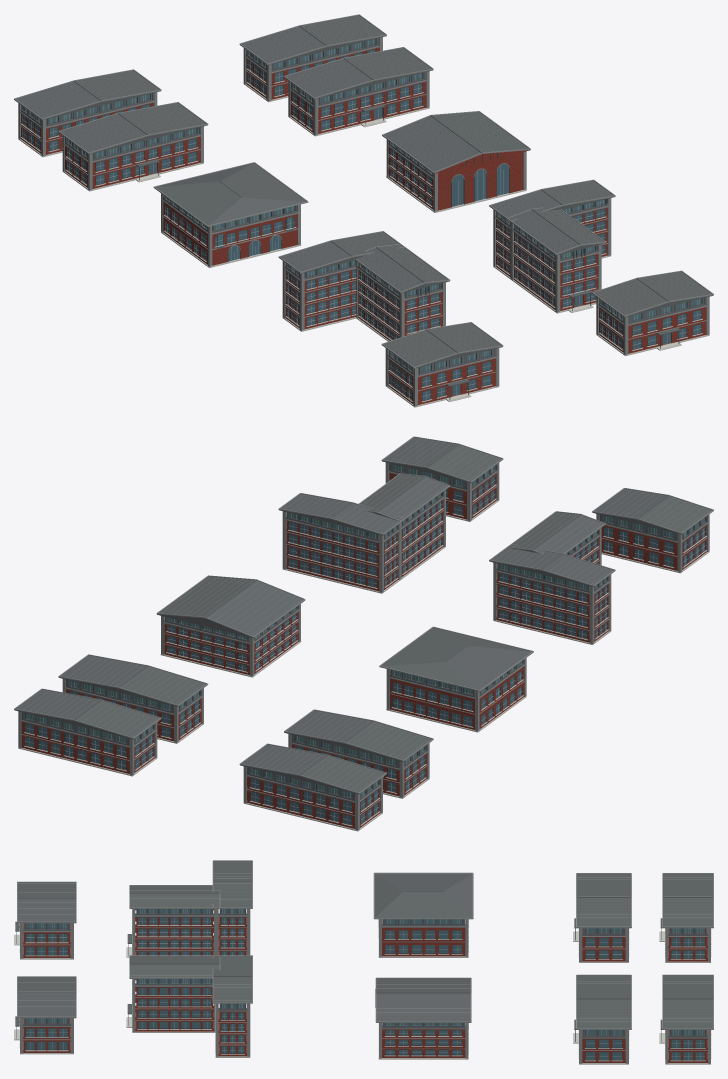
The model's file is architecture_v3_full.glb.
3 views of the same model, one above another, from view 1: azimuth 30°, elevation 25°; view 2: azimuth 150°, elevation 25°; view 3: azimuth 270°, elevation 25° (orthographic). The views are drawn at different scales.
Parts seen in each view (by area): view 1: BUILDING_library_west__ROOF_EAVES, BUILDING_library_east__ROOF_EAVES, BUILDING_teaching_east__ROOF_EAVES, BUILDING_teaching_west__ROOF_EAVES, BUILDING_dorm_near_west__ROOF_EAVES, BUILDING_dorm_near_east__ROOF_EAVES, BUILDING_teaching_west__FACADE_FINS_CORNICE, BUILDING_library_east__FLOOR_RED_BRICK, BUILDING_teaching_west__FLOOR_RED_BRICK, BUILDING_dorm_far_east__ROOF_EAVES, BUILDING_dorm_far_west__ROOF_EAVES, BUILDING_teaching_east__FACADE_FINS_CORNICE (+45 smaller); view 2: BUILDING_library_east__ROOF_EAVES, BUILDING_library_west__ROOF_EAVES, BUILDING_teaching_east__ROOF_EAVES, BUILDING_teaching_west__ROOF_EAVES, BUILDING_teaching_east__FLOOR_RED_BRICK, BUILDING_dorm_near_east__ROOF_EAVES, BUILDING_dorm_near_west__ROOF_EAVES, BUILDING_dorm_far_west__ROOF_EAVES, BUILDING_dorm_far_east__ROOF_EAVES, BUILDING_teaching_east__FACADE_FINS_CORNICE, BUILDING_teaching_east__WINDOW_GLASS, BUILDING_teaching_west__FACADE_FINS_CORNICE (+46 smaller); view 3: BUILDING_library_west__ROOF_EAVES, BUILDING_library_east__ROOF_EAVES, BUILDING_teaching_west__ROOF_EAVES, BUILDING_teaching_east__ROOF_EAVES, BUILDING_dorm_near_east__ROOF_EAVES, BUILDING_dorm_near_west__ROOF_EAVES, BUILDING_dorm_far_east__ROOF_EAVES, BUILDING_dorm_far_west__ROOF_EAVES, BUILDING_teaching_west__FACADE_FINS_CORNICE, BUILDING_teaching_east__FACADE_FINS_CORNICE, BUILDING_teaching_east__FLOOR_RED_BRICK, BUILDING_art_building__ROOF_EAVES (+47 smaller).
Part boxes in pixels (x1,y1,x2,y2): BUILDING_library_west__ROOF_EAVES: (155, 163, 306, 225); BUILDING_library_east__ROOF_EAVES: (384, 112, 528, 173); BUILDING_teaching_east__ROOF_EAVES: (491, 180, 614, 297); BUILDING_teaching_west__ROOF_EAVES: (280, 232, 449, 333); BUILDING_dorm_near_west__ROOF_EAVES: (60, 103, 207, 166); BUILDING_dorm_near_east__ROOF_EAVES: (286, 48, 432, 111); BUILDING_teaching_west__FACADE_FINS_CORNICE: (278, 231, 450, 337); BUILDING_library_east__FLOOR_RED_BRICK: (388, 147, 530, 210); BUILDING_teaching_west__FLOOR_RED_BRICK: (285, 269, 442, 340); BUILDING_dorm_far_east__ROOF_EAVES: (241, 15, 386, 65); BUILDING_dorm_far_west__ROOF_EAVES: (16, 70, 160, 120); BUILDING_teaching_east__FACADE_FINS_CORNICE: (489, 179, 615, 312); BUILDING_library_east__ROOF_EAVES: (157, 576, 303, 638); BUILDING_library_west__ROOF_EAVES: (381, 627, 531, 689); BUILDING_teaching_east__ROOF_EAVES: (279, 474, 448, 535); BUILDING_teaching_west__ROOF_EAVES: (490, 512, 613, 586); BUILDING_teaching_east__FLOOR_RED_BRICK: (286, 499, 443, 591); BUILDING_dorm_near_east__ROOF_EAVES: (59, 655, 206, 706); BUILDING_dorm_near_west__ROOF_EAVES: (284, 710, 431, 761); BUILDING_dorm_far_west__ROOF_EAVES: (240, 744, 385, 794); BUILDING_dorm_far_east__ROOF_EAVES: (15, 689, 159, 739); BUILDING_teaching_east__FACADE_FINS_CORNICE: (278, 473, 450, 592); BUILDING_teaching_east__WINDOW_GLASS: (289, 502, 441, 586); BUILDING_teaching_west__FACADE_FINS_CORNICE: (489, 511, 615, 643); BUILDING_library_west__ROOF_EAVES: (374, 873, 472, 917); BUILDING_library_east__ROOF_EAVES: (376, 978, 470, 1022); BUILDING_teaching_west__ROOF_EAVES: (127, 861, 252, 943); BUILDING_teaching_east__ROOF_EAVES: (127, 956, 252, 1014); BUILDING_dorm_near_east__ROOF_EAVES: (574, 975, 630, 1029); BUILDING_dorm_near_west__ROOF_EAVES: (574, 874, 630, 928); BUILDING_dorm_far_east__ROOF_EAVES: (660, 975, 713, 1029); BUILDING_dorm_far_west__ROOF_EAVES: (660, 874, 713, 928); BUILDING_teaching_west__FACADE_FINS_CORNICE: (129, 860, 252, 955); BUILDING_teaching_east__FACADE_FINS_CORNICE: (129, 955, 252, 1056); BUILDING_teaching_east__FLOOR_RED_BRICK: (135, 979, 246, 1056); BUILDING_art_building__ROOF_EAVES: (15, 882, 76, 931).
Bounding box in the file's own units: 91.92 × 16.43 × 175.
12 materials, 1 textured.
